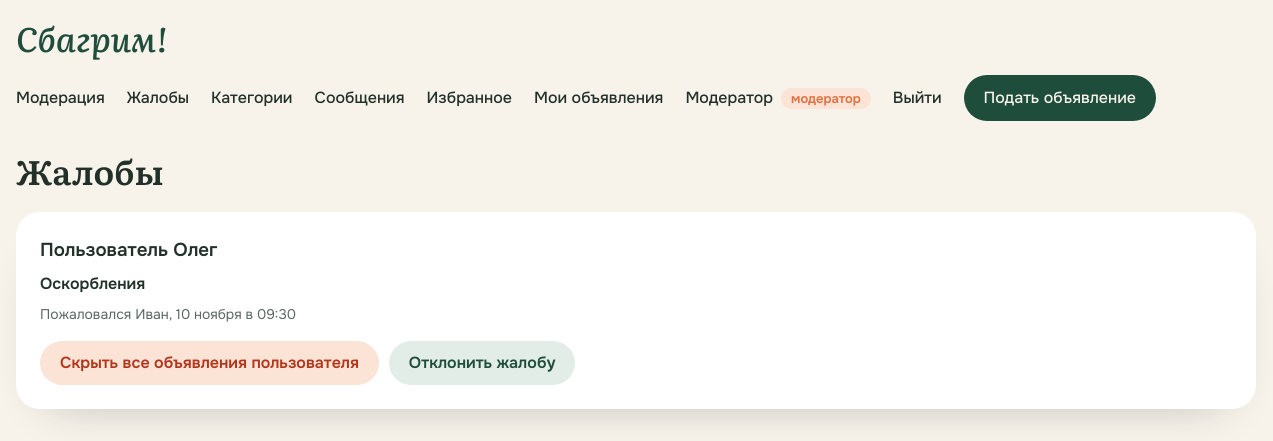
Scenario: жалобы у модератора › для жалобы на пользователя предлагает скрыть все его объявления
Click the button "Скрыть все объявления пользователя". click: (209, 363)
box: [40,341,379,385]
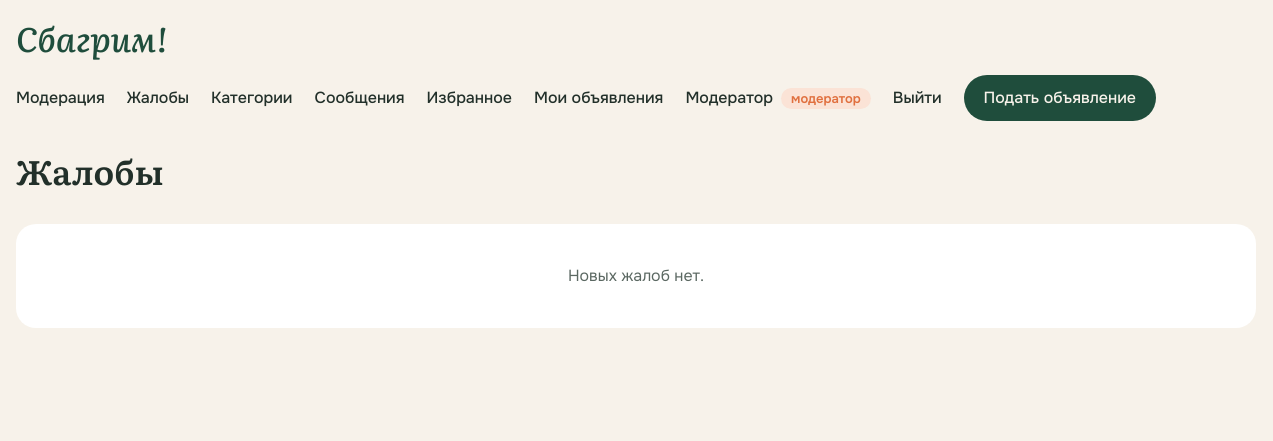
Now the text "Новых жалоб нет." is shown, box [16,224,1256,328]
